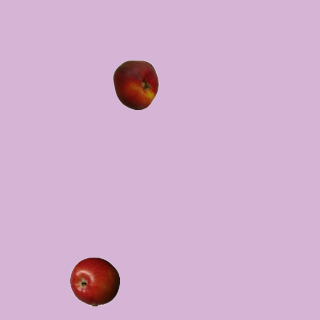Apple Braeburn: (69, 256, 119, 306)
Nectarine Flat: (110, 59, 160, 109)
